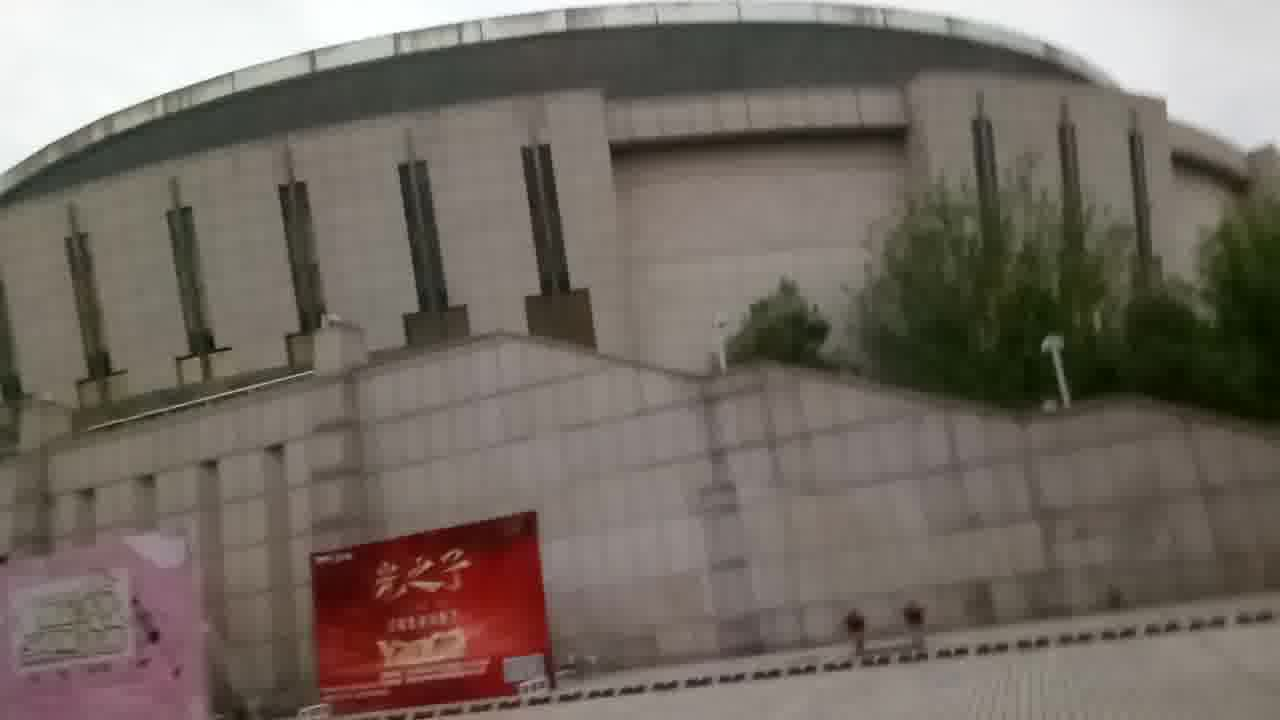zhongtiww: (16, 12, 1280, 672)
